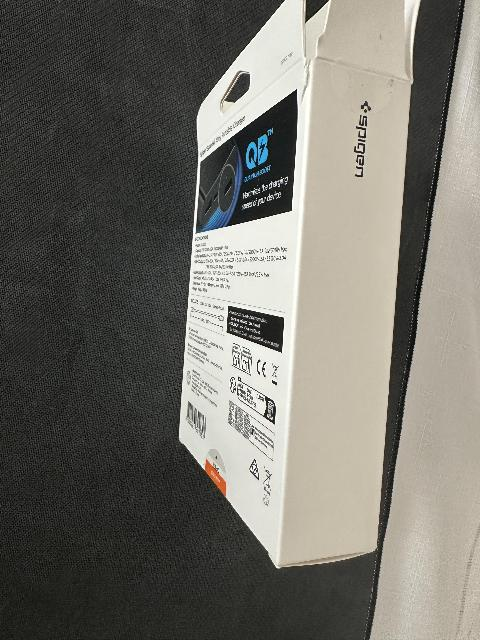Kagit: (176, 1, 421, 571)
